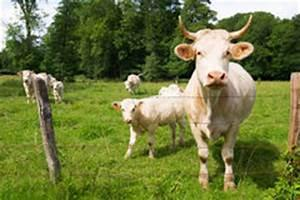cow: (173, 13, 256, 192), (123, 72, 143, 95)
